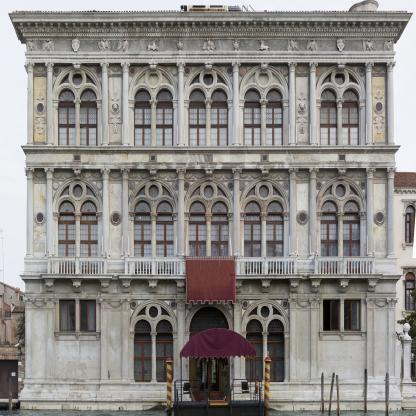Balcony: (124, 256, 298, 278), (313, 256, 375, 278), (47, 256, 107, 278)
Building Outline: (8, 0, 413, 411)
Deco: (108, 63, 123, 145), (33, 63, 47, 145), (372, 91, 387, 135), (185, 300, 208, 327), (212, 300, 234, 328), (296, 93, 310, 135), (82, 65, 102, 92), (183, 65, 203, 92), (270, 299, 290, 326), (130, 299, 150, 326), (346, 65, 366, 91), (53, 65, 72, 92), (129, 65, 148, 92), (239, 65, 258, 92), (315, 65, 334, 91), (159, 65, 178, 91), (214, 65, 233, 91), (270, 65, 289, 91), (242, 299, 261, 324), (158, 300, 177, 324), (165, 180, 179, 206), (276, 180, 290, 206), (89, 180, 103, 206), (353, 180, 367, 205), (220, 181, 234, 206), (129, 180, 142, 205), (184, 180, 197, 205), (53, 180, 66, 205), (316, 180, 330, 202), (239, 181, 253, 203), (202, 38, 217, 52), (337, 279, 351, 293), (98, 38, 111, 52), (117, 38, 130, 52), (366, 278, 379, 292), (44, 277, 56, 292), (42, 39, 55, 52), (146, 40, 160, 52), (362, 39, 376, 51), (71, 278, 83, 292), (99, 279, 111, 293), (120, 279, 132, 293), (147, 279, 159, 293), (175, 279, 187, 293), (232, 279, 244, 293), (289, 278, 301, 292), (310, 278, 322, 292), (257, 40, 270, 52), (287, 38, 299, 51), (306, 38, 318, 51), (260, 279, 272, 292), (26, 39, 37, 52), (383, 39, 394, 52), (336, 168, 347, 180), (72, 168, 83, 180), (204, 169, 215, 181), (148, 168, 158, 181), (260, 168, 270, 181), (72, 37, 80, 52), (337, 37, 345, 52), (177, 38, 183, 52), (233, 38, 239, 51)
Door: (190, 334, 230, 402), (156, 241, 174, 275), (266, 241, 284, 275), (321, 241, 338, 275), (343, 241, 360, 275), (211, 241, 228, 275), (81, 241, 98, 274), (59, 241, 76, 274), (134, 241, 151, 274), (189, 241, 206, 274), (245, 241, 262, 274)
Facade: (25, 21, 394, 410)
Floor: (25, 162, 396, 281)
Floor Slab: (25, 275, 396, 281), (25, 156, 396, 162)
Ground Floor: (25, 280, 396, 410)
Molding: (20, 21, 402, 37), (33, 169, 388, 181), (21, 278, 401, 284), (24, 149, 399, 154)
Pillar: (231, 168, 242, 275), (176, 167, 187, 274), (386, 167, 398, 258), (386, 298, 399, 382), (287, 298, 300, 382), (308, 298, 321, 382), (365, 298, 378, 382), (22, 298, 35, 382), (44, 298, 57, 382), (98, 298, 111, 382), (308, 167, 319, 259), (120, 298, 132, 382), (24, 167, 35, 258), (100, 167, 111, 258), (288, 167, 299, 258), (120, 167, 131, 258), (365, 167, 376, 258), (175, 298, 187, 381), (232, 298, 244, 380), (308, 61, 319, 145), (287, 61, 298, 145), (120, 62, 131, 145), (44, 167, 54, 258), (100, 61, 110, 146), (25, 61, 35, 145), (386, 61, 396, 145), (365, 61, 375, 145), (176, 62, 186, 145), (231, 62, 241, 145), (45, 61, 54, 145), (335, 211, 345, 274), (73, 211, 82, 274), (204, 212, 213, 275), (149, 212, 158, 274), (259, 212, 268, 274), (335, 99, 345, 146), (259, 99, 269, 146), (73, 99, 82, 146), (204, 99, 213, 146), (149, 100, 158, 146), (261, 332, 269, 382), (150, 332, 158, 382)
Sill: (319, 331, 366, 340), (54, 332, 101, 340)
Top Floor: (25, 37, 396, 162)
Window: (320, 87, 338, 146), (266, 87, 284, 146), (244, 87, 262, 146), (342, 87, 360, 145), (189, 306, 229, 332), (80, 88, 97, 146), (58, 88, 75, 146), (156, 88, 173, 146), (134, 88, 151, 146), (211, 88, 228, 146), (189, 88, 206, 146), (134, 340, 152, 382), (245, 340, 263, 382), (156, 340, 173, 382), (267, 340, 284, 382), (344, 300, 361, 332), (323, 300, 340, 332), (80, 300, 96, 332), (60, 300, 76, 332), (343, 199, 361, 220), (321, 199, 339, 220), (211, 200, 229, 221), (266, 200, 284, 221), (244, 200, 262, 221), (245, 319, 263, 340), (134, 319, 152, 340), (80, 221, 98, 241), (58, 221, 76, 241), (156, 221, 174, 241), (80, 200, 98, 220), (58, 200, 76, 220), (266, 221, 284, 241), (343, 220, 360, 241), (156, 200, 173, 221), (134, 200, 151, 221), (189, 200, 206, 221), (267, 319, 284, 340), (156, 319, 173, 340), (321, 220, 338, 240), (134, 221, 151, 241), (211, 221, 228, 241), (189, 221, 206, 241), (245, 221, 262, 241), (85, 72, 97, 86), (161, 72, 173, 86), (216, 72, 228, 86), (272, 184, 283, 198), (85, 184, 96, 198), (59, 184, 70, 198), (321, 72, 332, 86), (348, 72, 359, 86), (59, 72, 70, 86), (245, 72, 256, 86), (272, 72, 283, 86), (190, 185, 201, 198), (161, 185, 172, 198), (135, 185, 146, 198), (216, 185, 227, 198), (245, 185, 256, 198), (135, 73, 146, 86), (190, 73, 201, 86), (272, 306, 283, 317), (160, 306, 171, 317), (136, 306, 147, 317), (248, 306, 258, 317)
dont: (172, 379, 265, 416), (185, 256, 236, 305), (179, 328, 257, 359), (264, 351, 272, 416), (165, 358, 173, 416), (328, 372, 335, 415), (385, 372, 390, 416), (364, 368, 368, 413), (336, 374, 340, 416), (321, 372, 324, 412)
